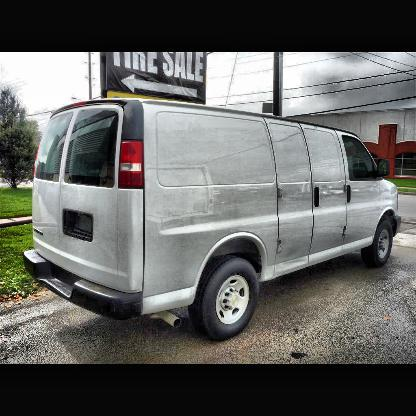Chevrolet Express Van 2007: (23, 97, 405, 346)
